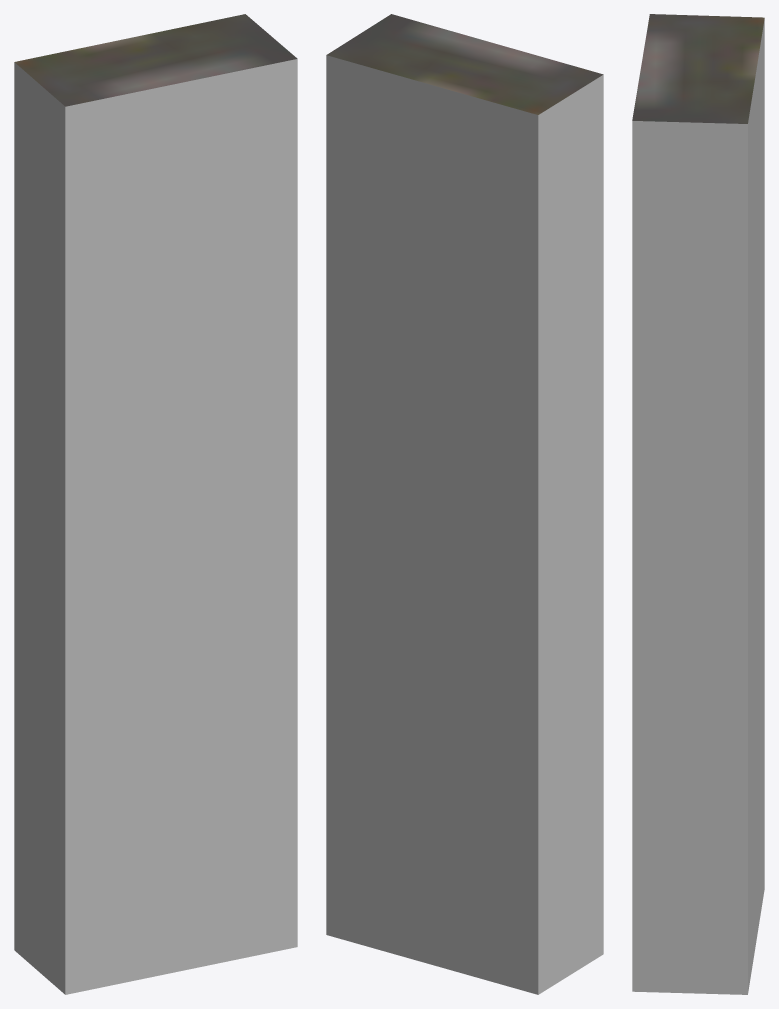
Rendered from DEBW_0010007THZk.gltf.
3 renders of one model, left to right at view 1: azimuth 30°, elevation 25°; view 2: azimuth 150°, elevation 25°; view 3: azimuth 270°, elevation 25°, orthographic.
Visible parts, largest first — view 1: Z_UP; view 2: Z_UP; view 3: Z_UP.
Part boxes in pixels (bbox=[...]): Z_UP: bbox=[14, 14, 297, 994]; Z_UP: bbox=[326, 14, 603, 994]; Z_UP: bbox=[632, 14, 764, 994].
Bounding box in the file's own units: 3.4 × 12.54 × 1.73.
2 materials, 1 textured.
